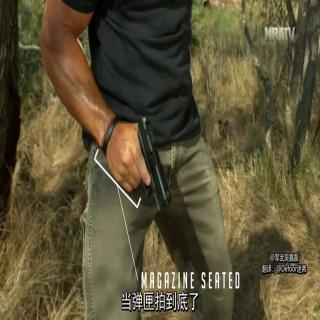gun: (100, 108, 172, 222)
